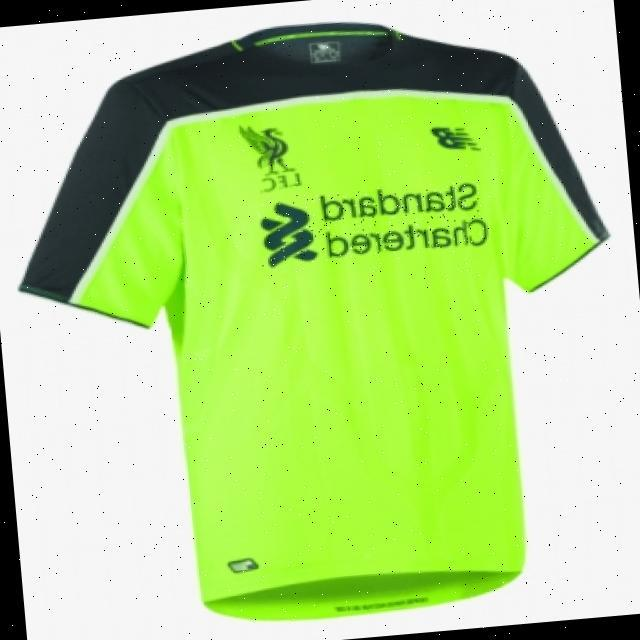Standard Chartered: (256, 178, 486, 266)
